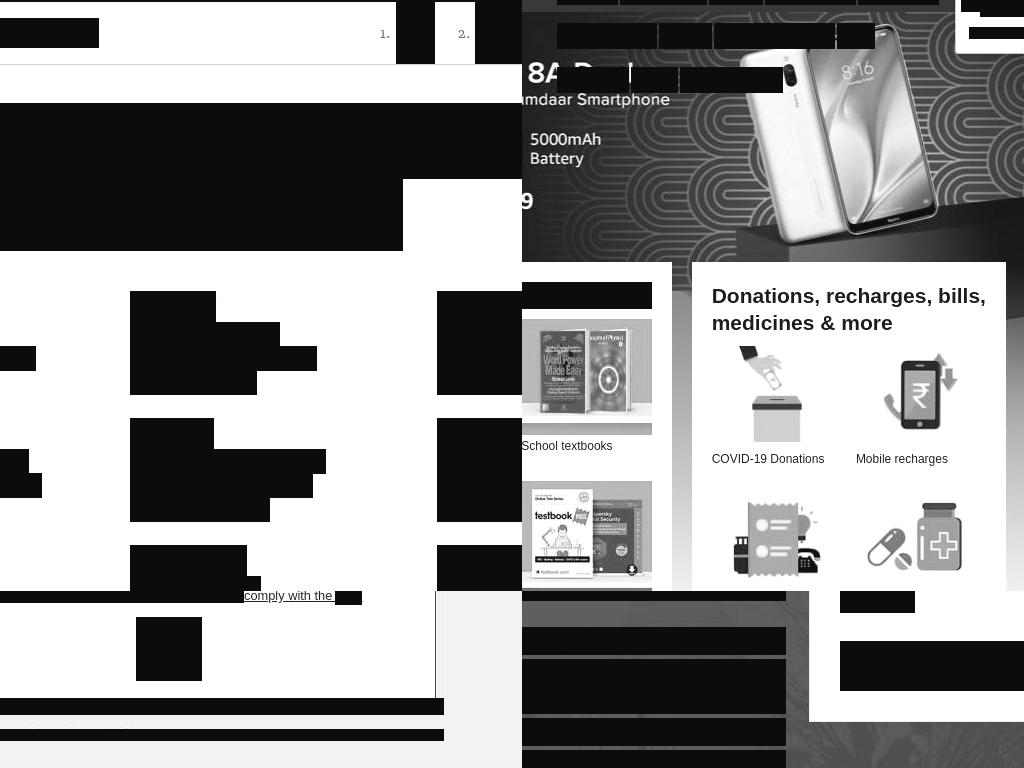button: (522, 319, 652, 435), (522, 481, 652, 591), (711, 346, 843, 449), (855, 346, 987, 449), (711, 494, 843, 591), (855, 494, 987, 591), (714, 23, 835, 49), (475, 2, 522, 64), (680, 67, 783, 93), (557, 23, 657, 49), (396, 2, 435, 64), (557, 67, 629, 93), (840, 591, 915, 613), (659, 23, 712, 49), (631, 67, 678, 93), (837, 23, 875, 49)
field: (840, 641, 1024, 691)
heading: (0, 103, 522, 179), (17, 175, 403, 251), (711, 282, 987, 336), (130, 545, 247, 576), (522, 282, 652, 309), (0, 18, 99, 48), (130, 291, 216, 322), (437, 291, 522, 322), (437, 418, 522, 449), (437, 545, 522, 576), (130, 418, 214, 449)
image: (522, 319, 652, 435), (522, 481, 652, 591), (711, 346, 842, 449), (855, 346, 986, 449), (711, 494, 842, 591), (855, 494, 986, 591), (0, 698, 444, 715), (136, 617, 202, 681)
link: (335, 591, 362, 605)
text: (522, 659, 786, 714), (522, 627, 786, 655), (522, 718, 786, 746), (0, 729, 444, 741), (130, 449, 326, 474), (522, 750, 786, 768), (130, 346, 317, 371), (130, 473, 313, 498), (130, 322, 280, 347), (130, 497, 270, 522), (130, 370, 257, 395), (0, 591, 244, 603), (711, 450, 825, 469), (437, 322, 522, 347), (437, 346, 522, 371), (437, 370, 522, 395), (437, 449, 522, 474), (437, 473, 522, 498), (437, 497, 522, 522), (130, 576, 261, 591), (855, 450, 948, 469), (522, 436, 613, 455), (437, 576, 522, 591), (244, 591, 337, 603), (969, 27, 1024, 39)
